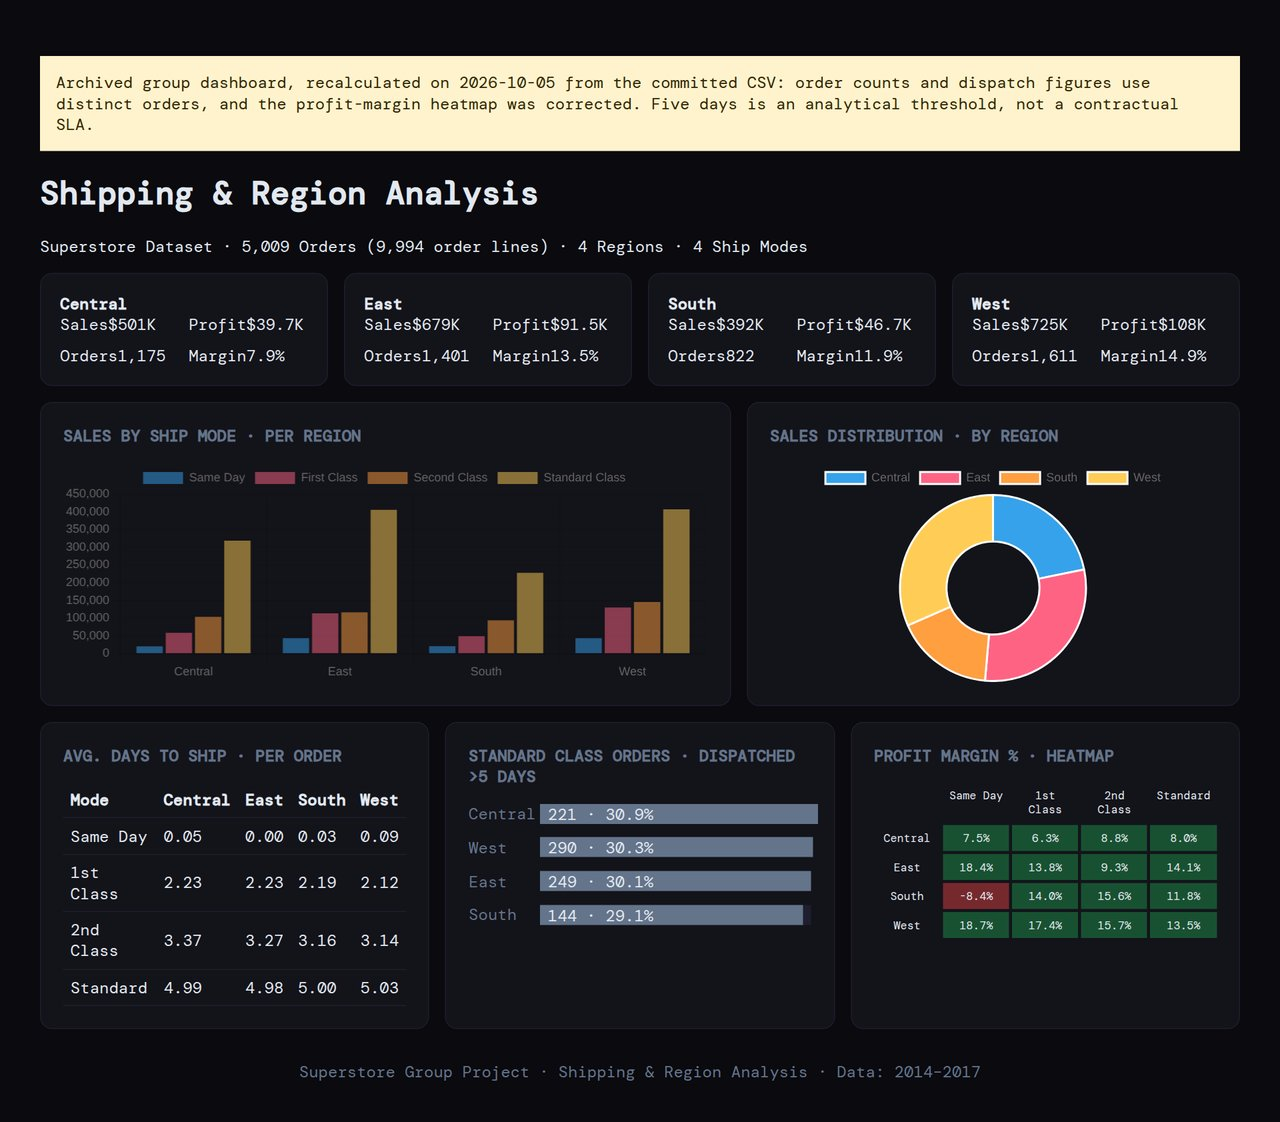

The page's visual inventory and layout, read from the dashboard file:
{"tool":"powerbi","page":{"name":"Regional Performance","canvas":[1280,720],"ordinal":3},"visuals":[{"type":"textbox","box":[7.3,4.7,377.8,56],"z":0},{"type":"textbox","box":[350.8,15.1,150.5,35.3],"z":1000},{"type":"clusteredColumnChart","title":"Sales by Ship Mode per Region","fields":{"Series":["Sample - Superstore.Ship Mode"],"Category":["Sample - Superstore.Region"],"Y":["_Measures.Total Sales"]},"box":[18.7,198.6,616.3,272.5],"z":2000},{"type":"donutChart","title":"Sales Distribution by Region","fields":{"Category":["Sample - Superstore.Region"],"Y":["_Measures.Total Sales"]},"box":[666.3,198.6,594.4,272.5],"z":3000},{"type":"pivotTable","title":"Avg Ship Days — Region × Mode","fields":{"Rows":["Sample - Superstore.Ship Mode"],"Columns":["Sample - Superstore.Region"],"Values":["_Measures.Avg Days to Ship"]},"box":[18.7,501.7,372.5,202.6],"z":4000},{"type":"cardVisual","title":"West","fields":{"Data":["_Measures.Total Sales","_Measures.Total Profit","_Measures.Total Orders","_Measures.Profit Margin"]},"box":[18.7,50.6,255.2,139.3],"z":5000},{"type":"cardVisual","title":"East","fields":{"Data":["_Measures.Total Sales","_Measures.Total Profit","_Measures.Total Orders","_Measures.Profit Margin"]},"box":[350.5,50.6,255.9,139.3],"z":6000},{"type":"cardVisual","title":"South","fields":{"Data":["_Measures.Total Sales","_Measures.Total Profit","_Measures.Total Orders","_Measures.Profit Margin"]},"box":[1004.8,50.6,255.9,139.3],"z":7000},{"type":"cardVisual","title":"Central","fields":{"Data":["_Measures.Total Sales","_Measures.Total Profit","_Measures.Total Orders","_Measures.Profit Margin"]},"box":[685,50.6,255.9,139.3],"z":8000},{"type":"clusteredBarChart","title":" Late Shipments — Standard Class >5 Days","fields":{"Category":["Sample - Superstore.Region"],"Y":["_Measures.Late Shipments"]},"box":[402.5,501.7,393.1,202.6],"z":9000},{"type":"pivotTable","title":"Avg Ship Days — Region × Mode","fields":{"Rows":["Sample - Superstore.Region"],"Values":["_Measures.Profit Margin"],"Columns":["Sample - Superstore.Ship Mode"]},"box":[807.6,501.7,453.1,202.6],"z":10000}]}

Visuals, with their boxes on the page's 1280x720 design canvas (x1, y1, x2, y2). These are canvas units, not pixel positions in the 1280x1122 screenshot, which may show the page scaled, cropped or inside an application window:
textbox: 7:5:385:61
textbox: 351:15:501:50
"Sales by Ship Mode per Region" clusteredColumnChart: 19:199:635:471
"Sales Distribution by Region" donutChart: 666:199:1261:471
"Avg Ship Days — Region × Mode" pivotTable: 19:502:391:704
"West" cardVisual: 19:51:274:190
"East" cardVisual: 350:51:606:190
"South" cardVisual: 1005:51:1261:190
"Central" cardVisual: 685:51:941:190
" Late Shipments — Standard Class >5 Days" clusteredBarChart: 402:502:796:704
"Avg Ship Days — Region × Mode" pivotTable: 808:502:1261:704
